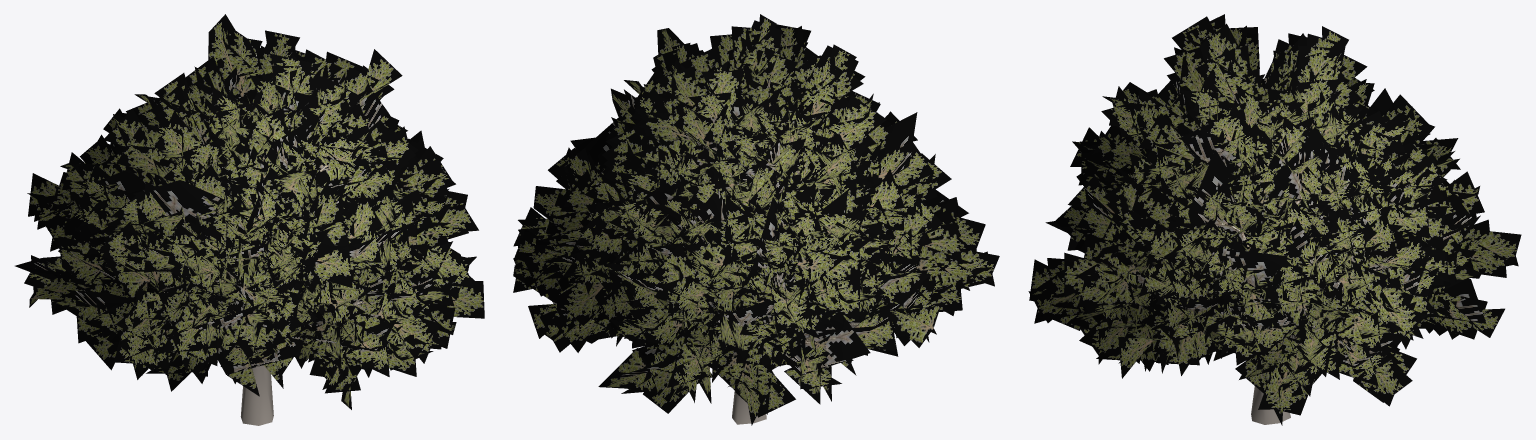
File: trees.glb
3 views of the same model, side by side, from view 1: azimuth 30°, elevation 25°; view 2: azimuth 150°, elevation 25°; view 3: azimuth 270°, elevation 25° (orthographic). The views are drawn at different scales.
Parts seen in each view (by area): view 1: v0_lod0, v1_lod0, v2_lod0; view 2: v0_lod0, v1_lod0, v2_lod0; view 3: v0_lod0, v1_lod0, v2_lod0.
Boxes of the visible parts, box(x1,y1,x2,y2) form: v0_lod0: box(15, 80, 484, 425); v1_lod0: box(29, 14, 467, 391); v2_lod0: box(138, 138, 395, 362); v0_lod0: box(513, 80, 999, 425); v1_lod0: box(556, 14, 960, 382); v2_lod0: box(624, 143, 881, 372); v0_lod0: box(1028, 85, 1521, 425); v1_lod0: box(1070, 14, 1473, 379); v2_lod0: box(1131, 100, 1369, 369).
Size of what is drawn, in the model's own units: 17.59 by 15.46 by 17.72.
Materials: 1 (1 with a texture image).
